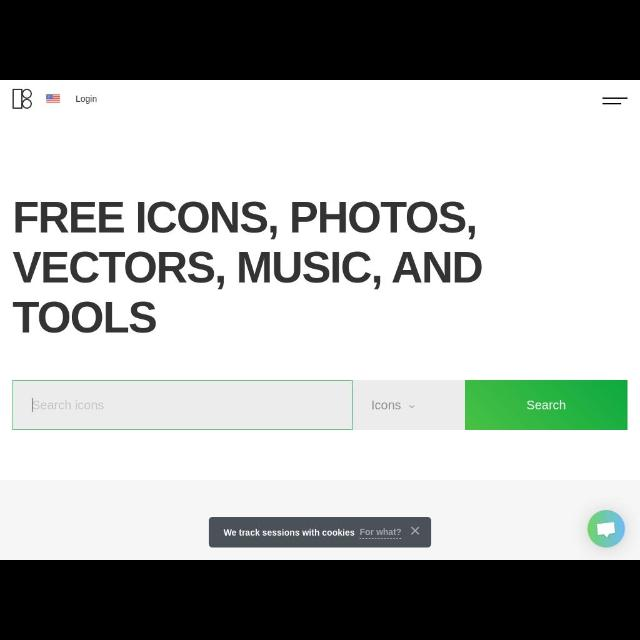icon: (588, 510, 624, 548), (13, 90, 32, 108), (602, 98, 628, 104), (410, 526, 420, 534), (410, 404, 414, 408)
image: (46, 95, 60, 104)
input: (12, 380, 352, 430)
spinner: (353, 380, 465, 430)
text: (13, 252, 481, 290), (16, 201, 474, 239), (13, 302, 155, 332), (223, 528, 354, 536), (32, 400, 104, 410), (528, 400, 566, 410), (361, 528, 401, 536), (372, 400, 400, 410), (76, 95, 96, 104)
textbutton: (465, 380, 627, 430)
